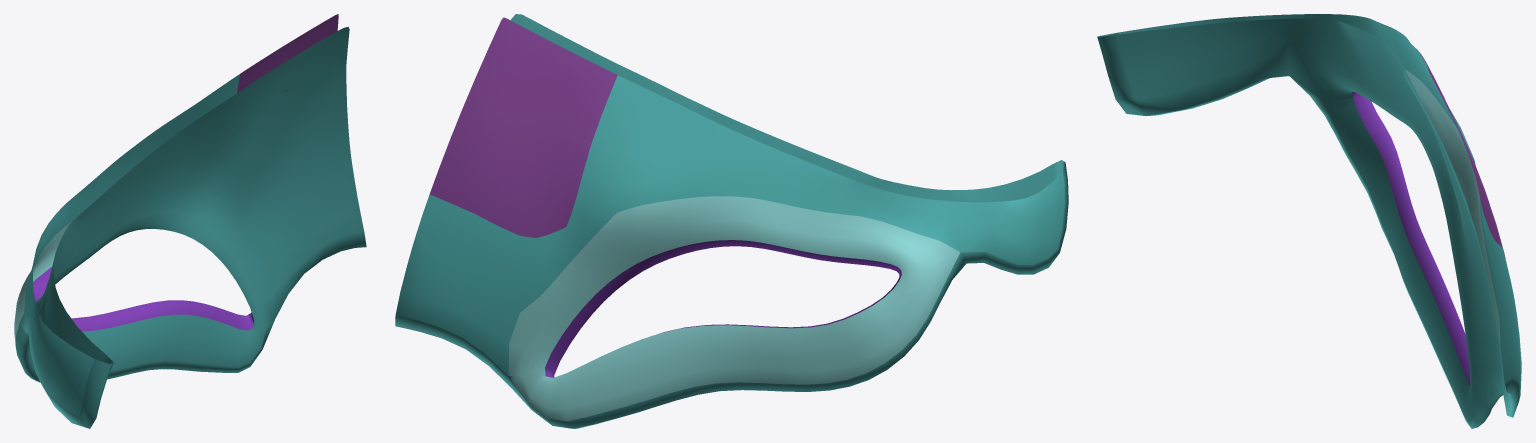
File: shard3.fbx
3 renders of one model, left to right at view 1: azimuth 30°, elevation 25°; view 2: azimuth 150°, elevation 25°; view 3: azimuth 270°, elevation 25°, orthographic. The views are drawn at different scales.
Parts seen in each view (by area): view 1: U_EnemyShard03; view 2: U_EnemyShard03; view 3: U_EnemyShard03.
Part boxes in pixels (x1,y1,x2,y2): U_EnemyShard03: (14,14,366,428); U_EnemyShard03: (395,14,1068,428); U_EnemyShard03: (1097,14,1521,428).
Size of the model in its own units: 0.8038 by 0.5884 by 0.5735.
